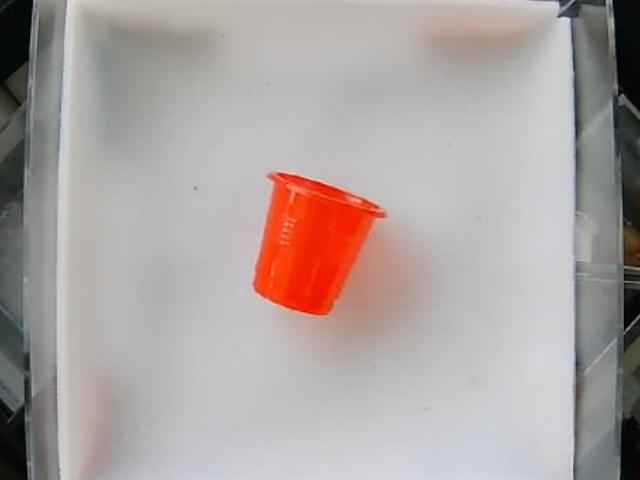Cup: (250, 172, 386, 315)
